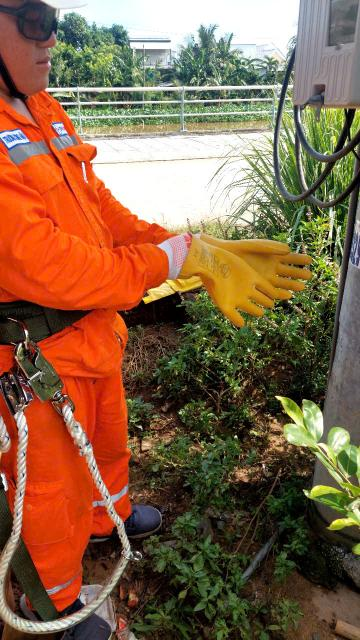gloves: (200, 225, 319, 299), (168, 243, 277, 321)
harness: (0, 288, 128, 353)
shoes: (61, 495, 195, 567), (0, 592, 134, 640)
